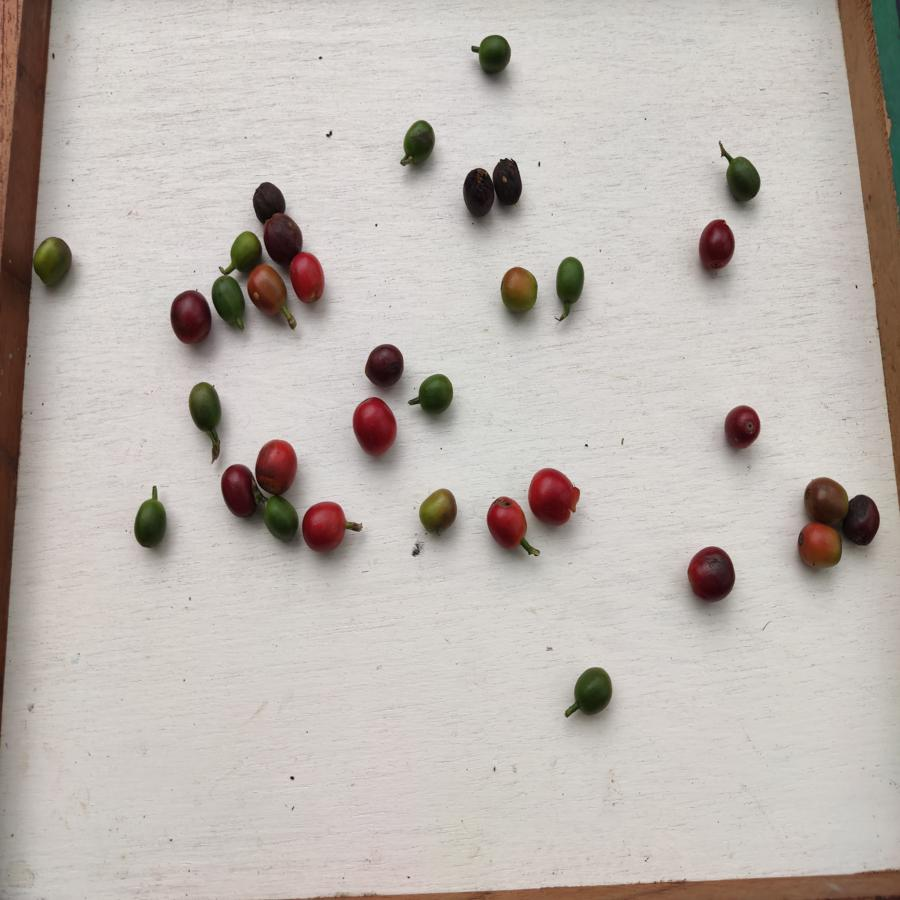Inmaduro: (184, 382, 234, 445), (549, 252, 594, 316), (568, 664, 618, 720), (128, 495, 171, 551), (475, 29, 515, 86), (32, 235, 74, 288), (411, 373, 462, 416), (259, 493, 302, 543), (725, 153, 764, 205), (398, 119, 438, 169), (211, 276, 245, 333), (223, 231, 262, 268)
Maduro: (526, 467, 583, 525), (353, 395, 399, 456), (301, 500, 349, 557), (252, 438, 300, 494), (485, 494, 529, 547), (292, 254, 327, 308)
Pinton: (795, 523, 843, 575), (414, 486, 461, 538), (248, 266, 290, 320), (499, 268, 541, 319)
Sobremaduro: (685, 546, 738, 608), (845, 488, 885, 552), (723, 402, 770, 455), (168, 290, 210, 348), (218, 461, 255, 522), (696, 216, 737, 270), (801, 474, 849, 520), (361, 341, 405, 388), (455, 168, 495, 218), (492, 154, 525, 214), (263, 215, 305, 250), (251, 181, 285, 219)
